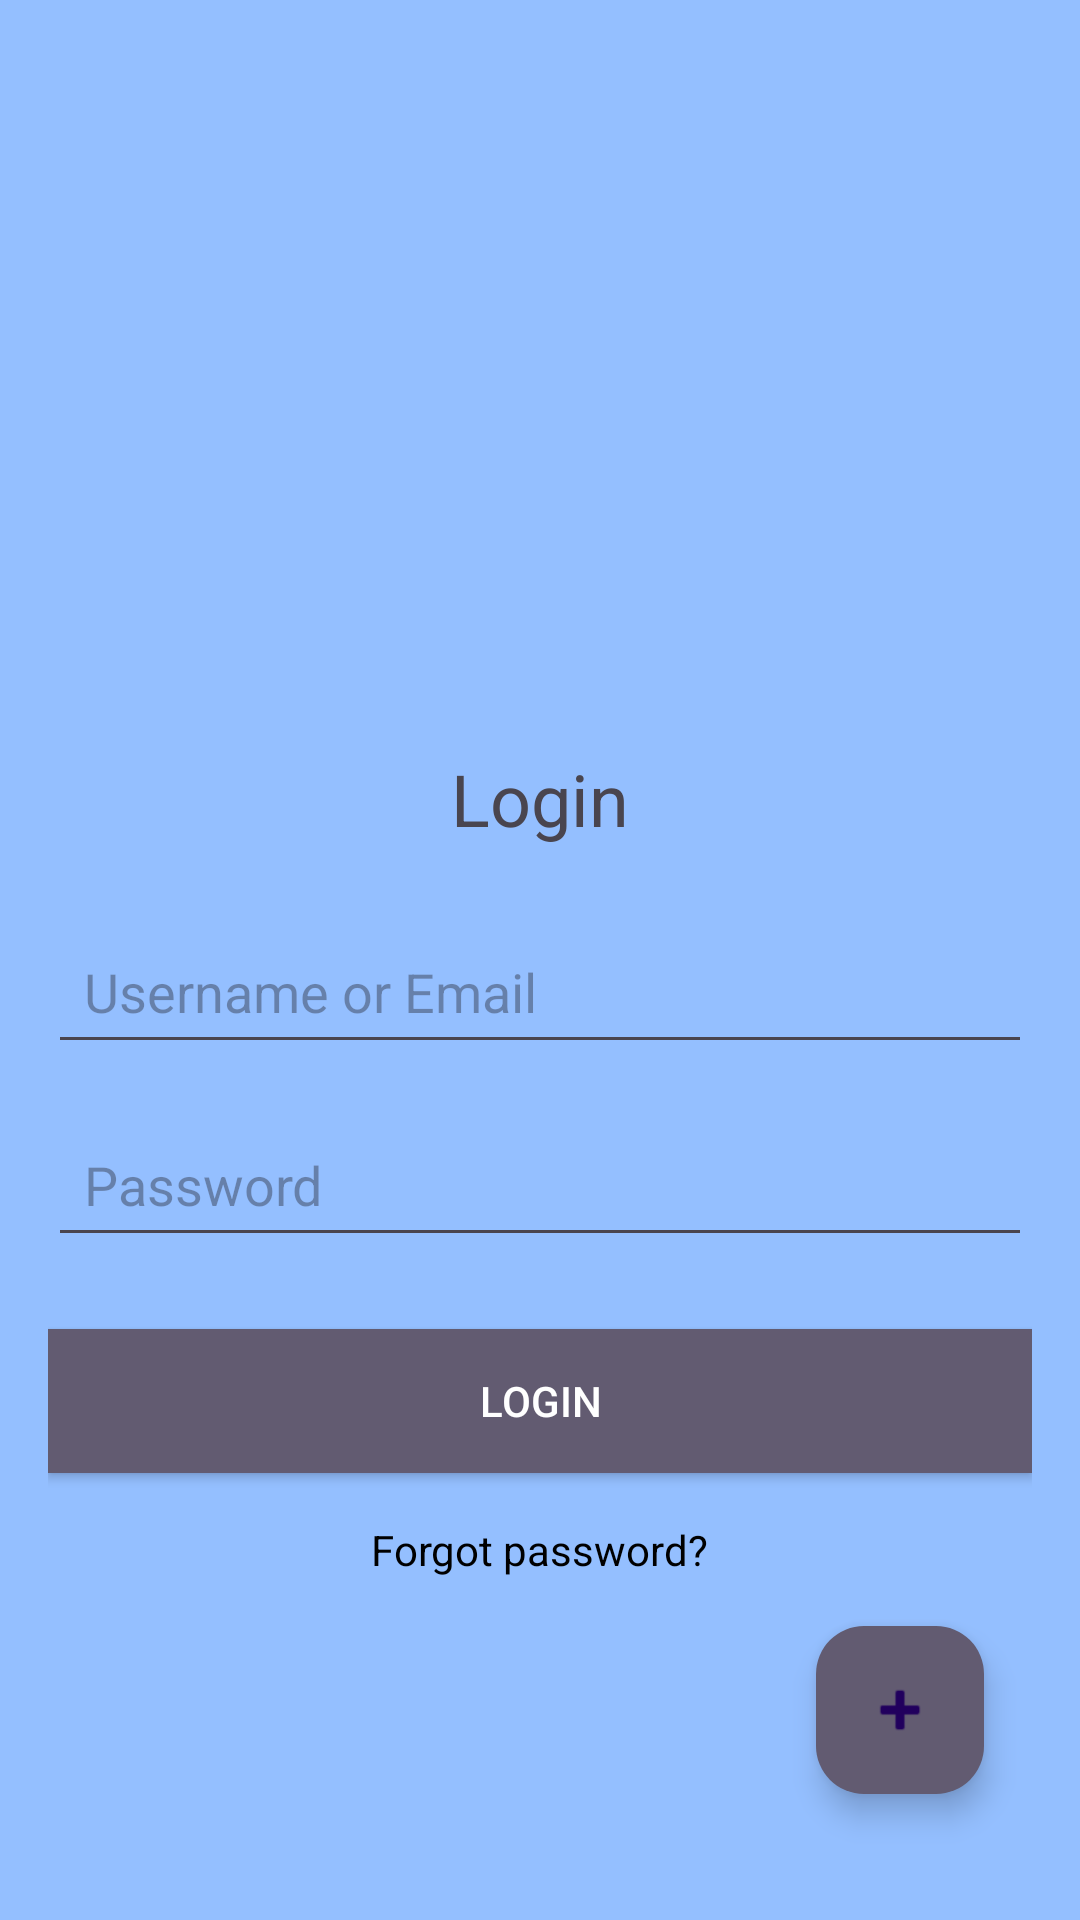

Where icons sit on this 1080w x 1920h app screen, as (x1,y1,x2,y2):
add: (816,1626,984,1794)
